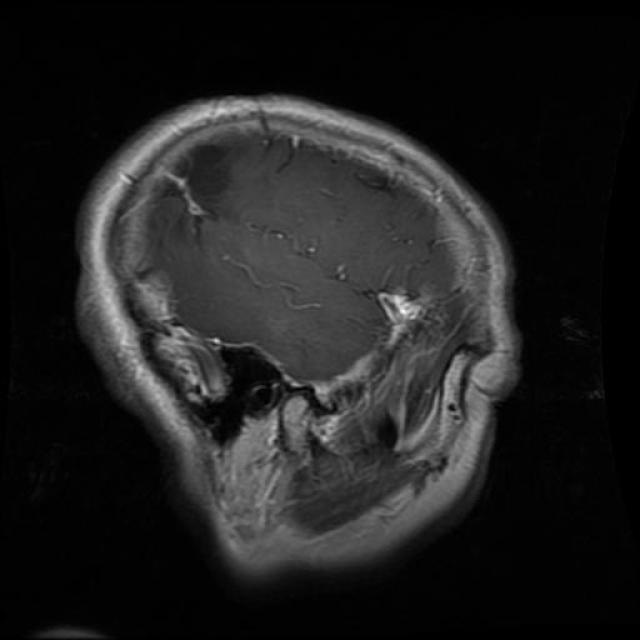glioma: (376, 285, 435, 353)
